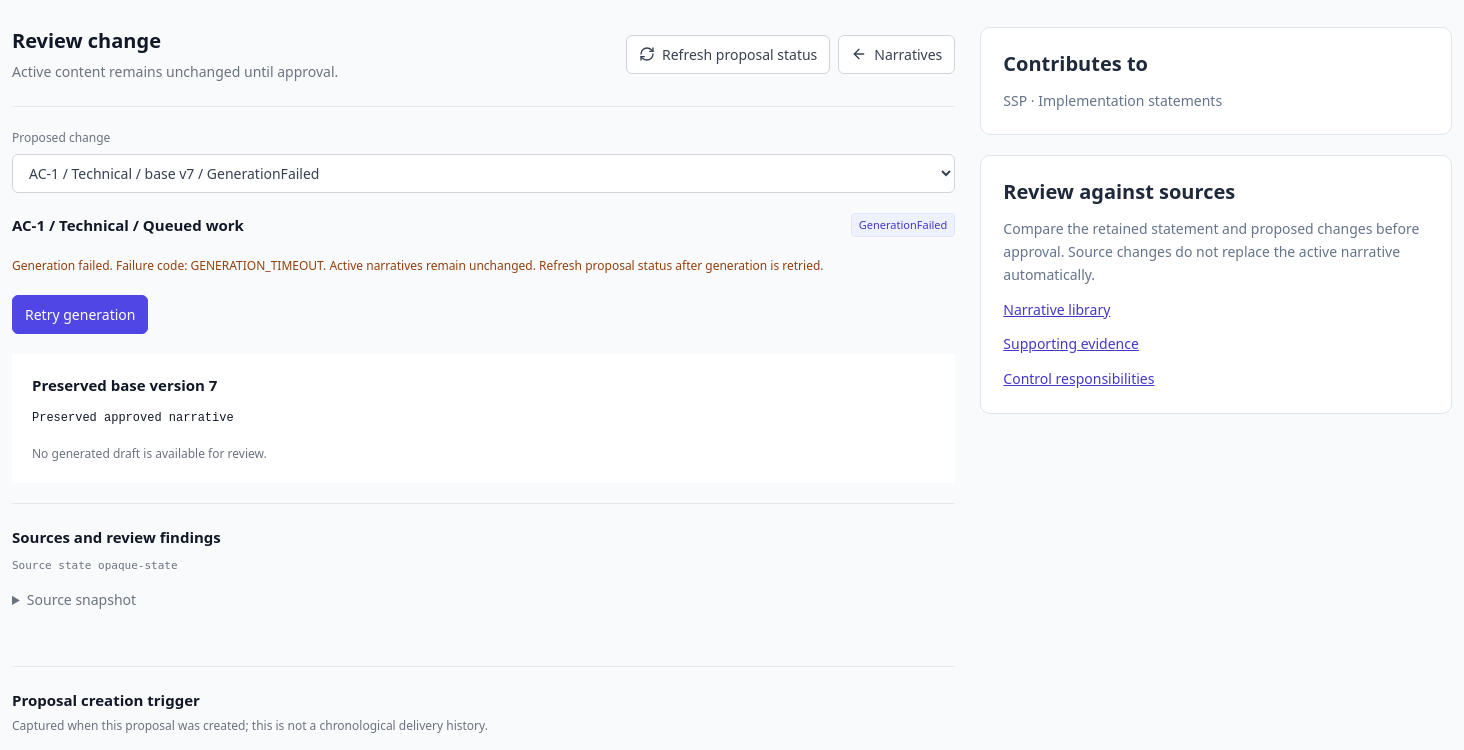
Test: exact queued narrative review › retries the same failed proposal with its revision instead of creating a replacement
Click the button "Retry generation".
click(80, 314)  # box [12, 295, 148, 334]
(page scrolled)
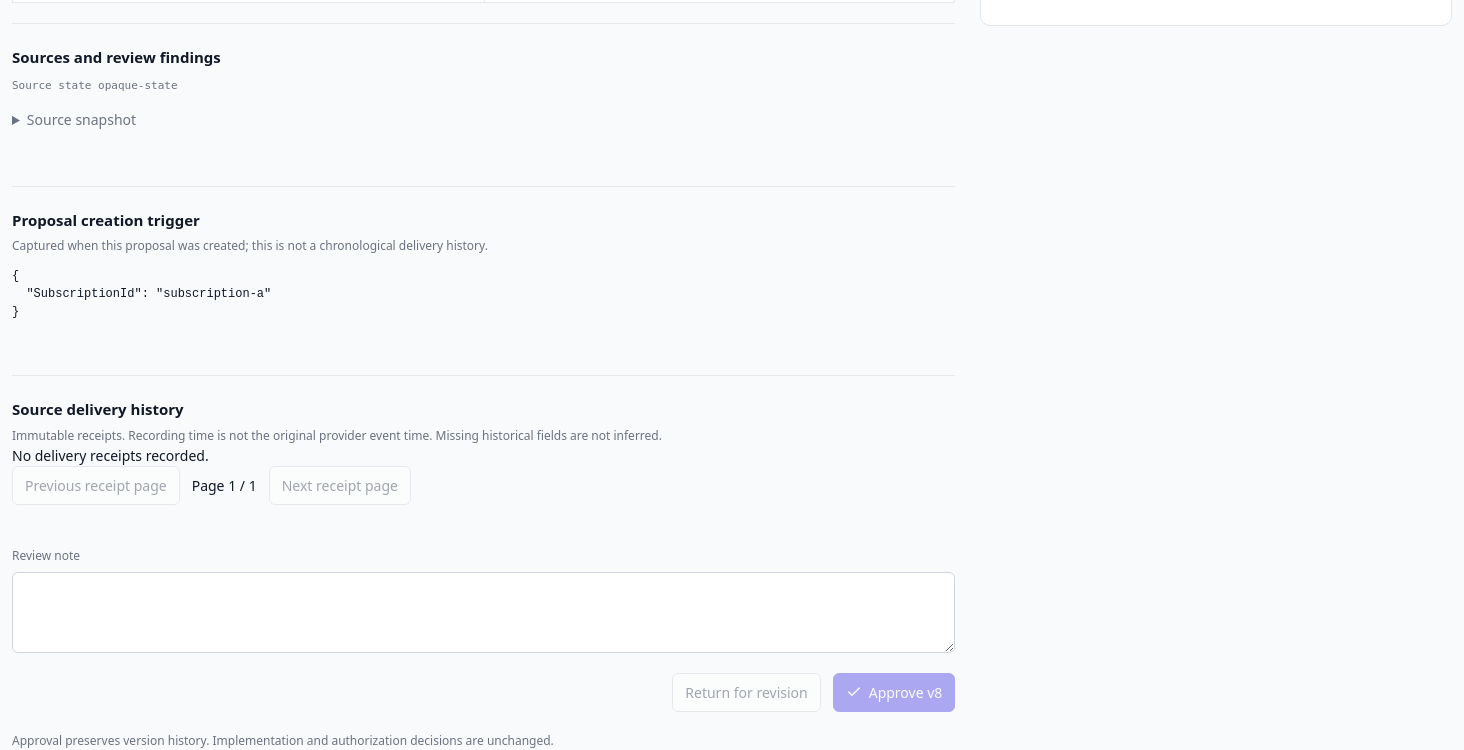
Expected: the element "Source delivery history" is shown, [12, 375, 955, 527]
Now the button "Approve v8" is disabled, box [833, 673, 955, 712]
